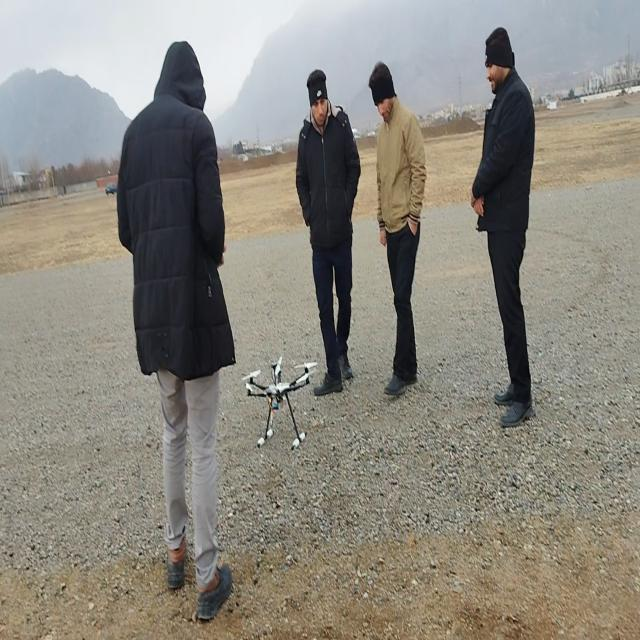drone: (241, 358, 313, 451)
